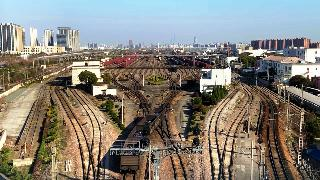train: (120, 108, 167, 172), (186, 77, 197, 86)
